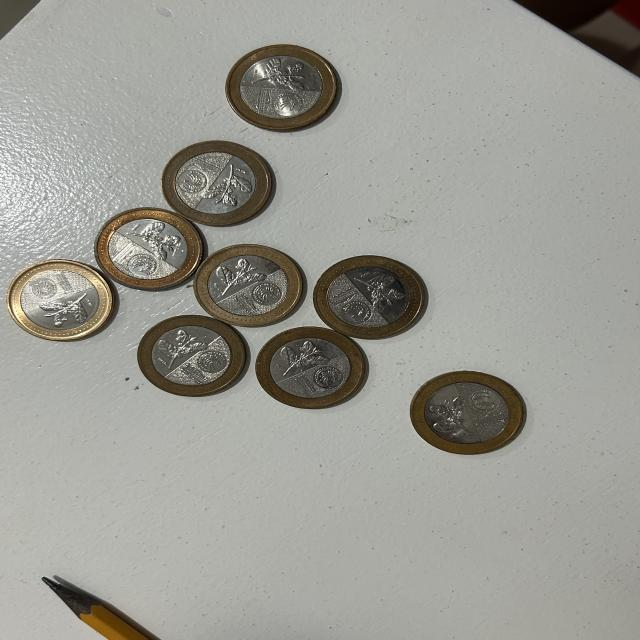20_New_Back: (426, 398, 475, 443), (201, 164, 251, 208), (212, 257, 264, 299), (129, 223, 184, 262), (150, 328, 204, 367), (272, 337, 324, 374), (353, 272, 401, 311), (42, 292, 92, 328), (256, 58, 310, 90)
